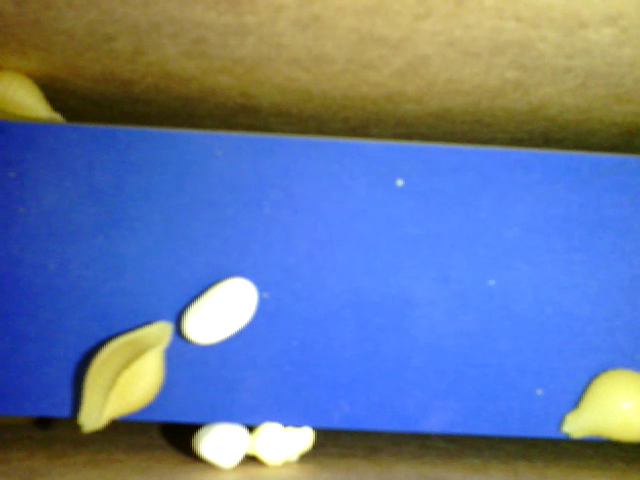shell: (78, 318, 171, 439), (563, 367, 639, 449), (1, 66, 73, 125)
